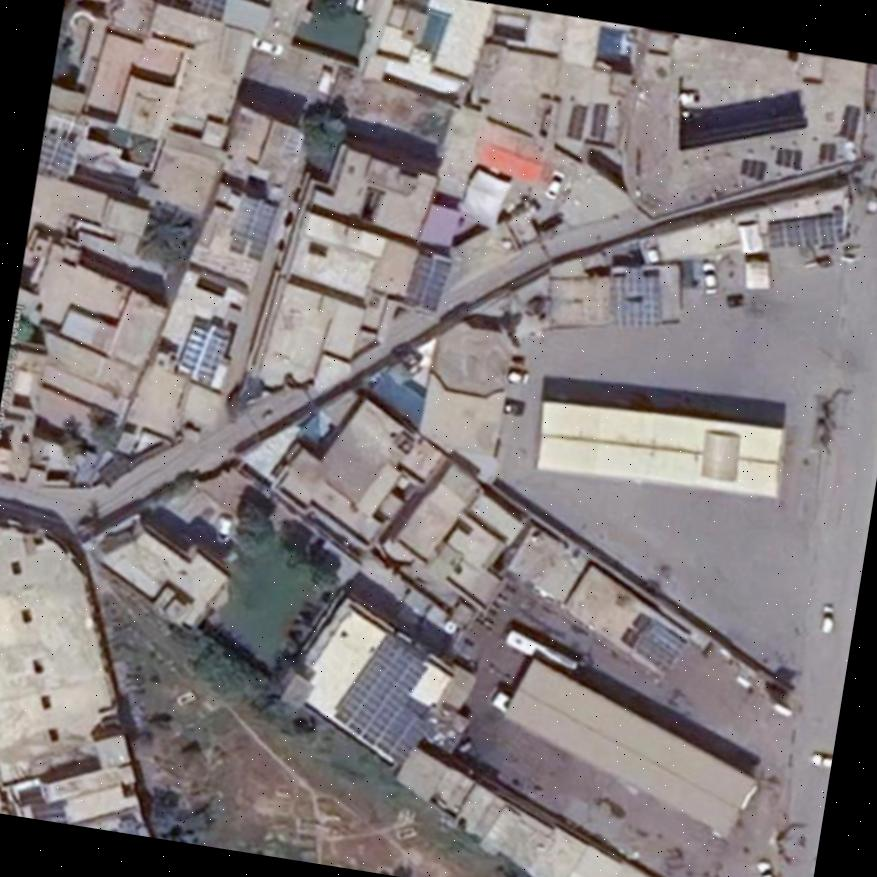Solarpanel: (333, 630, 456, 764), (174, 326, 226, 387), (229, 194, 276, 261), (404, 253, 450, 310), (770, 210, 834, 248), (615, 273, 660, 325), (39, 130, 73, 178), (839, 105, 860, 142), (568, 104, 586, 141), (739, 157, 767, 180), (589, 103, 609, 135), (191, 0, 223, 18), (776, 149, 801, 169), (818, 142, 837, 162)
